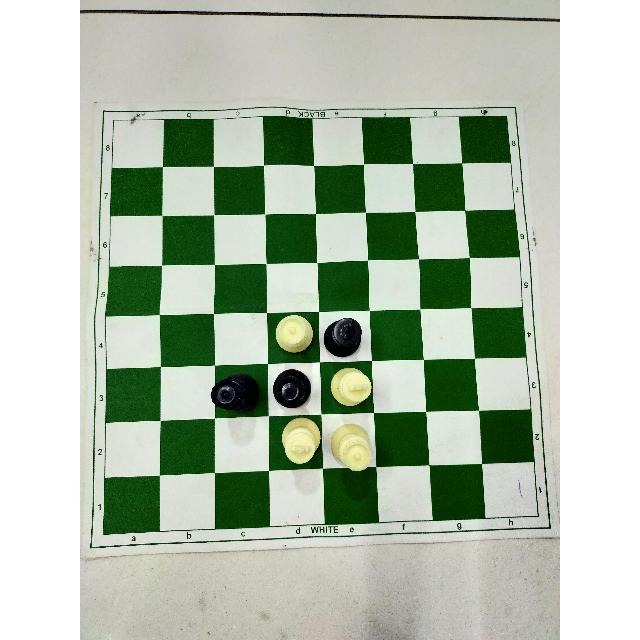black-king: (322, 317, 366, 361)
black-queen: (207, 368, 263, 416), (272, 366, 315, 412)
white-king: (280, 414, 324, 469), (328, 366, 376, 412)
white-queen: (329, 420, 376, 474), (273, 312, 317, 356)
